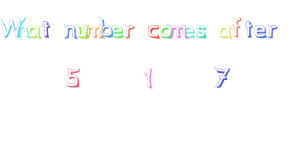1: (137, 65, 159, 90)
5: (58, 62, 88, 92)
7: (209, 62, 231, 89)
W: (1, 13, 20, 41)
a: (26, 21, 43, 43), (215, 20, 232, 42)
b: (98, 14, 112, 39)
c: (144, 21, 160, 41)
e: (253, 22, 268, 42), (110, 21, 123, 41), (183, 21, 196, 41)
f: (230, 14, 244, 42)
h: (15, 14, 29, 42)
m: (84, 21, 104, 41), (168, 21, 186, 42)
n: (61, 19, 78, 44)
o: (160, 24, 172, 40)
r: (123, 21, 140, 40), (267, 21, 281, 41)
s: (194, 21, 209, 41)
t: (243, 19, 254, 42), (42, 19, 54, 40)
u: (75, 21, 89, 40)
